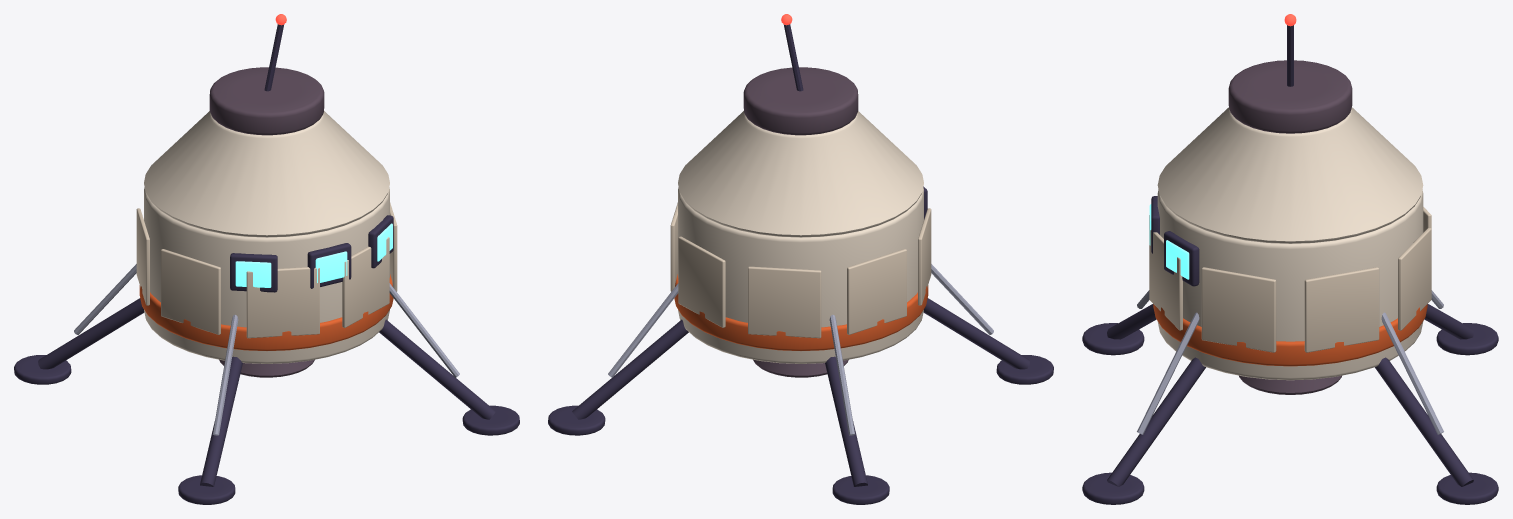
The model's file is lander.glb.
3 views of the same model, side by side, from view 1: azimuth 30°, elevation 25°; view 2: azimuth 150°, elevation 25°; view 3: azimuth 270°, elevation 25° (orthographic). The views are drawn at different scales.
Parts seen in each view (by area): view 1: lander; view 2: lander; view 3: lander.
Boxes of the visible parts, left/top/right/bottom form: lander: left=14, top=14, right=519, bottom=504; lander: left=548, top=14, right=1053, bottom=504; lander: left=1082, top=14, right=1498, bottom=504.
Bounding box in the file's own units: 4.7 × 5.12 × 4.7.
